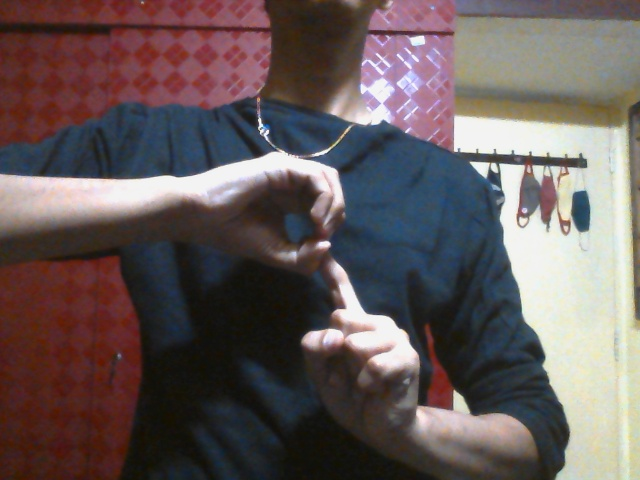Q: (196, 151, 421, 444)
